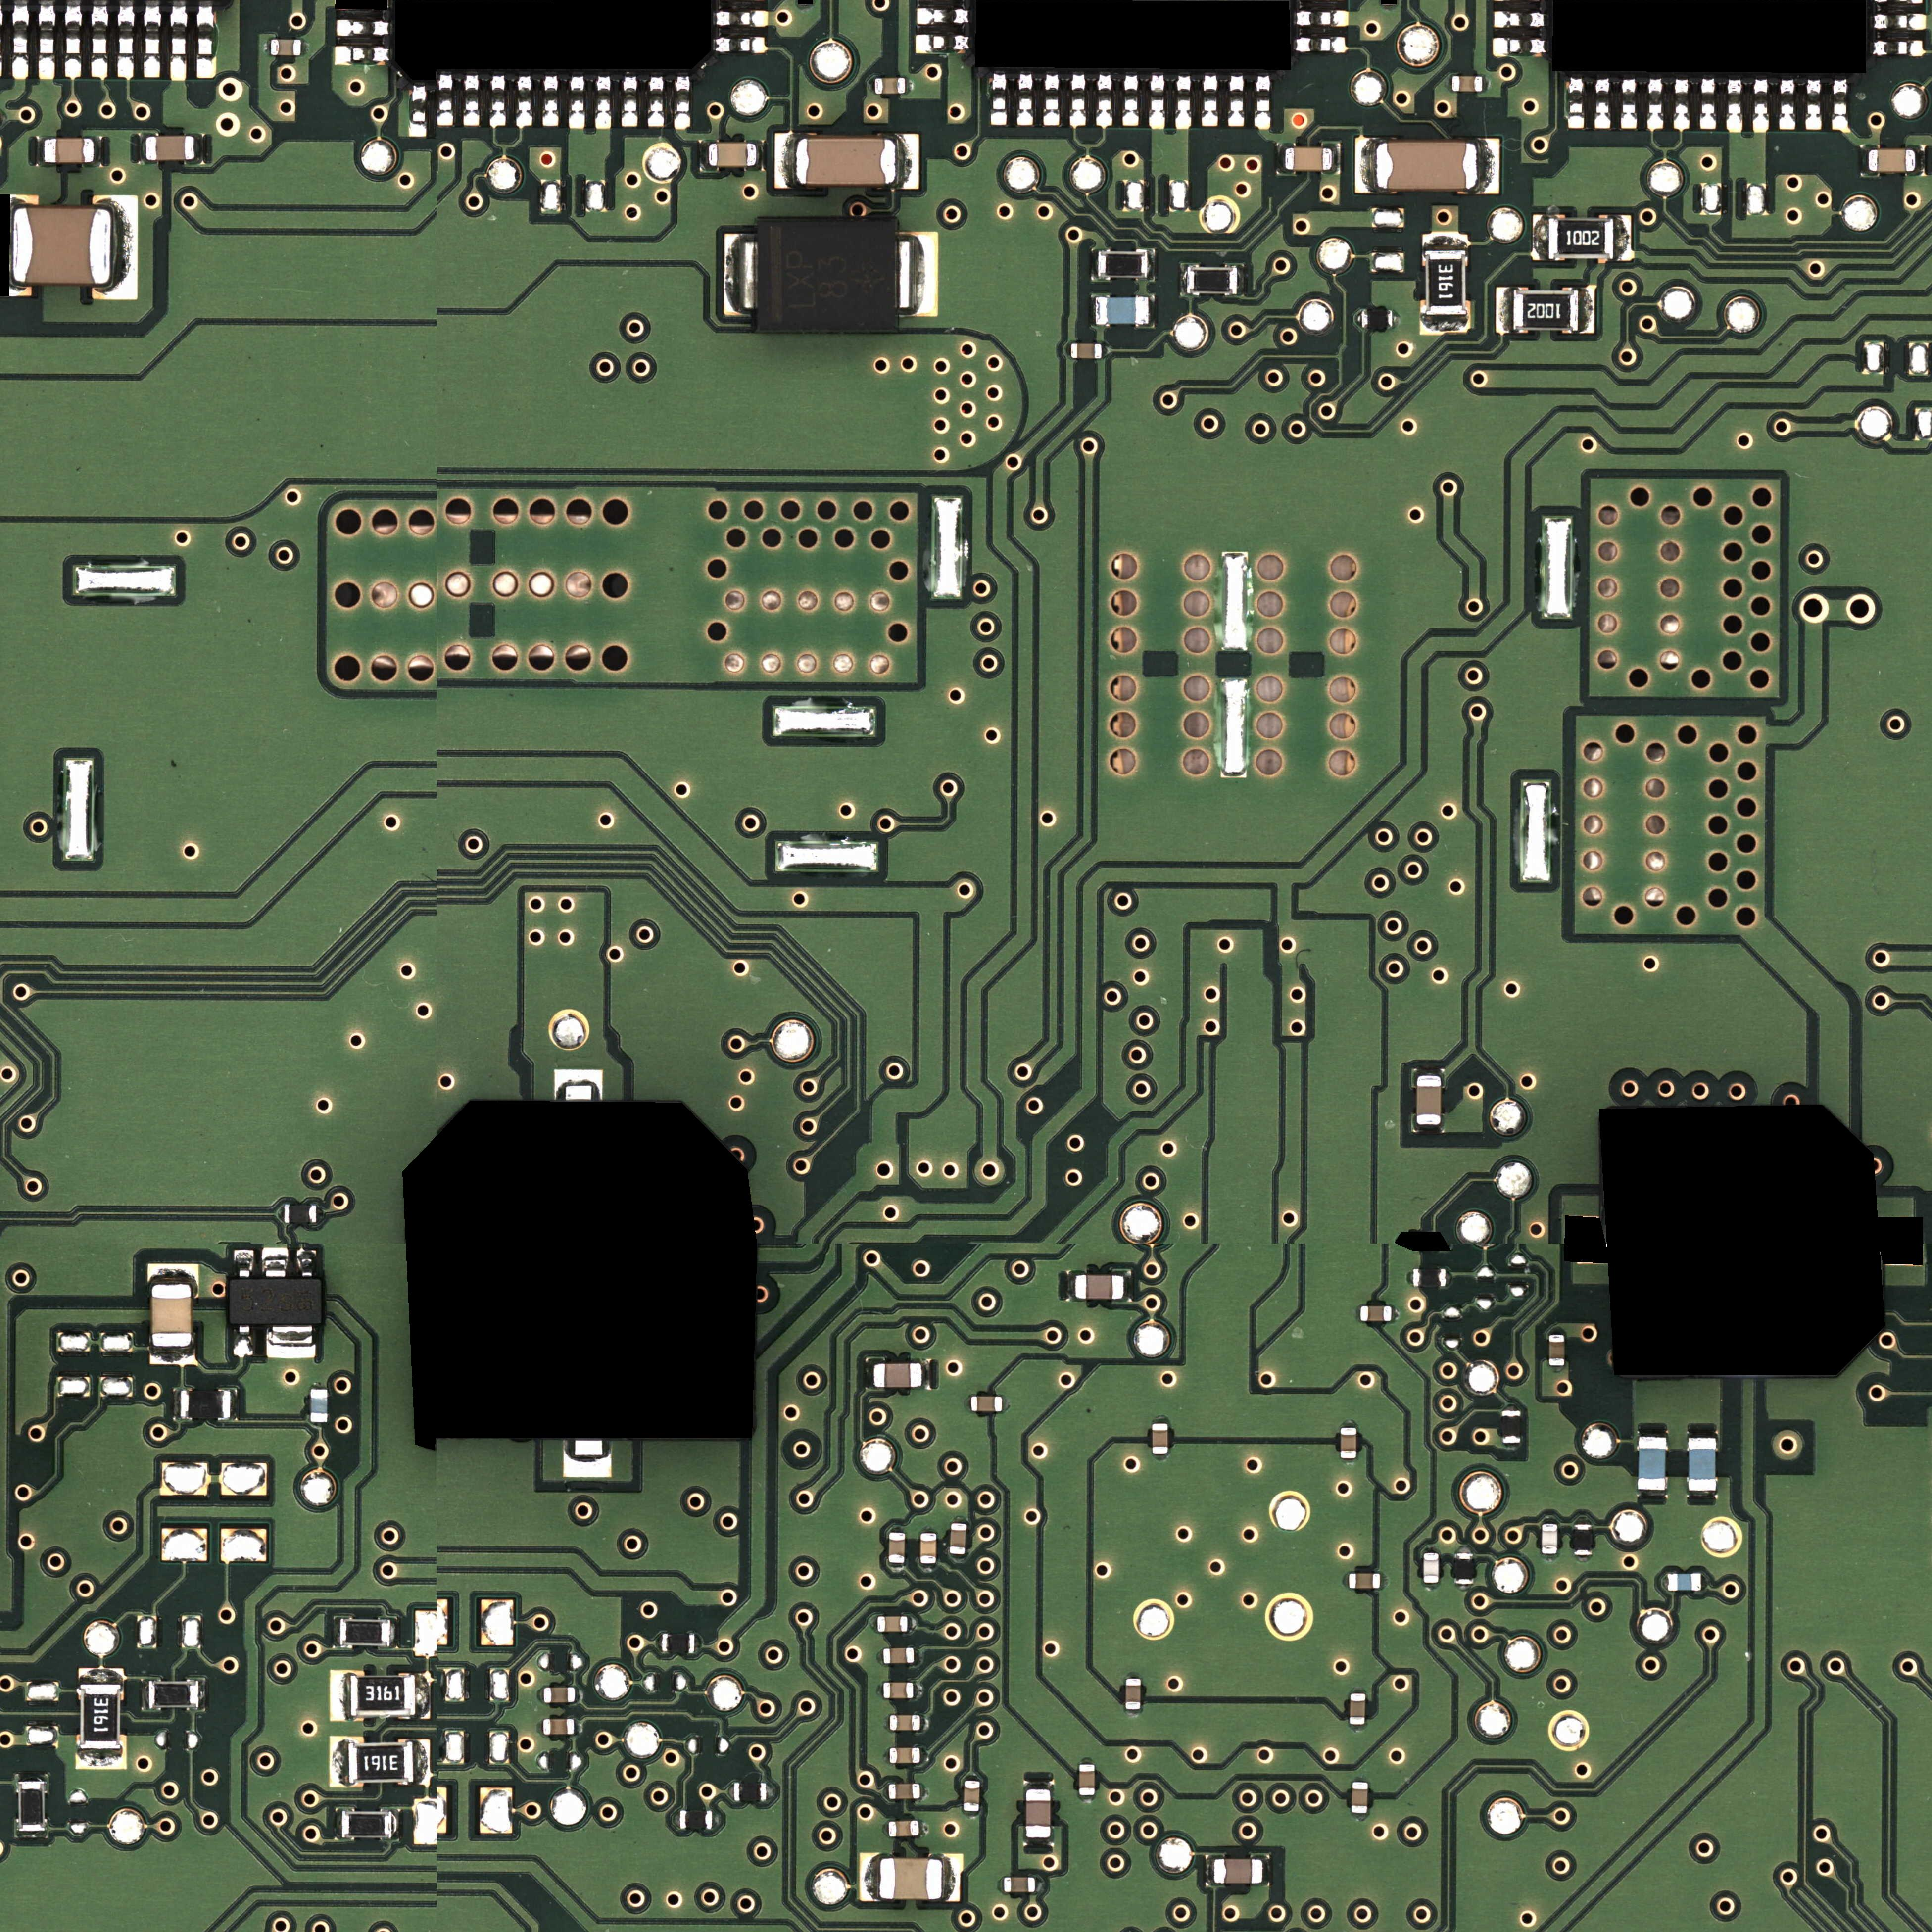Package: (757, 219, 897, 331), (12, 207, 111, 283), (1375, 142, 1477, 189), (228, 1277, 324, 1325), (796, 138, 895, 184), (1424, 251, 1467, 315), (1513, 290, 1578, 331), (350, 1675, 416, 1716), (349, 1743, 414, 1783), (1548, 218, 1614, 258), (879, 1858, 943, 1898), (80, 1684, 120, 1748), (152, 1284, 191, 1346), (1688, 1438, 1716, 1490), (1638, 1437, 1665, 1490), (1095, 297, 1148, 324), (180, 1391, 230, 1419), (1097, 297, 1148, 324), (340, 1619, 389, 1645), (1187, 267, 1237, 294), (1099, 251, 1146, 278), (19, 1782, 44, 1831), (44, 138, 94, 163), (1417, 1076, 1442, 1125), (149, 1683, 198, 1707), (1214, 1859, 1263, 1884), (1026, 1789, 1051, 1838), (145, 136, 195, 161), (341, 1812, 391, 1836), (874, 1362, 922, 1387), (1284, 147, 1332, 170), (1076, 1276, 1123, 1299), (709, 143, 755, 166), (1868, 149, 1914, 172), (662, 1633, 695, 1654), (679, 1810, 713, 1829), (310, 1389, 327, 1422), (1502, 1410, 1520, 1444), (1668, 1573, 1700, 1591), (1414, 1269, 1445, 1286), (285, 1205, 317, 1223), (734, 1783, 766, 1801), (1575, 1525, 1592, 1555), (888, 1532, 906, 1562), (1454, 1553, 1472, 1583), (888, 1783, 920, 1799), (1348, 1573, 1380, 1589), (964, 1780, 980, 1812), (883, 1647, 915, 1663), (1548, 1334, 1564, 1366), (1079, 1764, 1095, 1796), (1352, 1782, 1368, 1813), (1350, 1693, 1366, 1725), (888, 1821, 918, 1836), (890, 1748, 920, 1764), (876, 78, 906, 94), (1541, 1523, 1557, 1553), (890, 1714, 920, 1730), (1005, 1877, 1035, 1893), (878, 1615, 908, 1631), (950, 1523, 966, 1553), (1362, 311, 1392, 327), (883, 1683, 913, 1698), (1453, 76, 1483, 92), (271, 39, 301, 55), (1341, 1428, 1357, 1458), (1125, 1679, 1141, 1709), (1152, 1424, 1168, 1454), (1361, 1306, 1391, 1322), (920, 1534, 936, 1564), (971, 1396, 1001, 1412), (1070, 343, 1102, 357), (543, 1720, 575, 1734), (545, 1688, 575, 1702), (1424, 1553, 1438, 1583)
Solder: (899, 232, 938, 317), (724, 234, 755, 315), (113, 195, 138, 299), (563, 1438, 612, 1477), (267, 1325, 315, 1359), (196, 2, 216, 78), (554, 1069, 602, 1099), (170, 2, 188, 80), (117, 2, 134, 80), (11, 2, 28, 80), (37, 2, 55, 80), (143, 2, 161, 78), (92, 2, 110, 78), (65, 2, 81, 80), (897, 134, 918, 189), (775, 133, 794, 189), (1479, 138, 1499, 195), (329, 1670, 350, 1721), (1355, 138, 1375, 193), (149, 1263, 198, 1284), (76, 1748, 126, 1769), (1493, 37, 1546, 57), (329, 1736, 349, 1787), (621, 74, 639, 129), (464, 73, 481, 127), (515, 73, 533, 127), (409, 83, 426, 138), (336, 46, 391, 64), (860, 1852, 879, 1902), (1645, 76, 1663, 129), (916, 35, 970, 53), (648, 74, 665, 127), (568, 76, 586, 129), (541, 74, 559, 127), (437, 73, 455, 126), (490, 73, 508, 126), (1421, 315, 1468, 334), (943, 1854, 962, 1902), (1495, 11, 1546, 28), (918, 7, 970, 25), (1017, 71, 1033, 127), (991, 71, 1007, 127), (150, 1346, 196, 1366), (1614, 214, 1633, 260), (1297, 35, 1346, 53), (1254, 73, 1270, 127), (1228, 73, 1244, 127), (1097, 73, 1113, 127), (1070, 73, 1086, 127), (1044, 73, 1060, 127), (674, 74, 690, 129), (1578, 287, 1596, 334), (1874, 14, 1927, 30), (1833, 78, 1849, 131), (1780, 78, 1796, 131), (1727, 78, 1743, 131), (1621, 76, 1637, 129), (1594, 76, 1610, 129), (1568, 76, 1583, 129), (596, 74, 612, 127), (338, 19, 391, 35), (1874, 41, 1925, 57), (1806, 78, 1822, 129), (1672, 78, 1688, 129), (1297, 11, 1348, 27), (717, 11, 768, 27), (715, 37, 766, 53), (1495, 287, 1513, 333), (1150, 73, 1164, 129), (1177, 74, 1191, 129), (1203, 73, 1217, 127), (1123, 73, 1138, 127), (1753, 78, 1767, 131), (1700, 76, 1714, 129), (264, 1247, 288, 1277), (414, 1739, 430, 1785), (1422, 234, 1468, 249), (1532, 214, 1548, 260), (78, 1668, 124, 1684), (416, 1674, 430, 1718), (234, 1325, 253, 1357), (234, 1249, 253, 1277), (297, 1249, 317, 1277), (699, 142, 709, 170), (1023, 1838, 1054, 1847), (1205, 1854, 1214, 1886), (1023, 1780, 1054, 1789), (1237, 264, 1246, 295), (1123, 1270, 1132, 1302), (195, 133, 203, 165), (1686, 1490, 1718, 1499), (1146, 249, 1155, 280), (1332, 143, 1341, 173), (389, 1617, 398, 1647), (1067, 1270, 1076, 1300), (16, 1773, 46, 1782), (391, 1810, 400, 1840), (35, 136, 44, 166), (230, 1389, 239, 1419), (1916, 145, 1925, 175), (1414, 1067, 1444, 1076), (16, 1831, 48, 1838), (1263, 1854, 1270, 1886), (1180, 264, 1187, 295), (1638, 1430, 1668, 1437), (142, 1679, 149, 1709), (1688, 1430, 1718, 1437), (198, 1679, 205, 1709), (1414, 1125, 1444, 1132), (757, 140, 764, 170), (1637, 1490, 1667, 1497), (333, 1617, 340, 1647), (1148, 295, 1155, 326), (173, 1389, 180, 1419), (1277, 143, 1284, 173), (334, 1808, 341, 1838), (867, 1359, 874, 1389), (1092, 249, 1099, 280), (94, 136, 101, 166), (1861, 147, 1868, 175), (922, 1361, 929, 1389), (140, 133, 145, 163), (1090, 295, 1095, 326), (301, 39, 310, 57), (1001, 1396, 1010, 1414), (1405, 1269, 1414, 1286), (766, 1783, 775, 1801), (1352, 1813, 1368, 1822), (913, 1683, 922, 1698), (1380, 1573, 1389, 1589), (1541, 1553, 1557, 1562), (918, 1821, 927, 1836), (920, 1525, 936, 1534), (1125, 1670, 1141, 1679), (1502, 1444, 1522, 1451), (1548, 1366, 1566, 1373), (962, 1812, 980, 1819), (1339, 1421, 1357, 1428), (1548, 1327, 1566, 1334), (1422, 1583, 1440, 1591), (950, 1516, 968, 1523), (1502, 1403, 1520, 1410), (1152, 1454, 1169, 1461), (1575, 1516, 1592, 1523), (317, 1205, 324, 1223), (888, 1562, 906, 1569), (1422, 1546, 1440, 1553), (713, 1812, 720, 1829), (1541, 1516, 1559, 1523), (278, 1205, 285, 1223), (1454, 1583, 1472, 1591), (1348, 1725, 1366, 1732), (881, 1821, 888, 1836), (1341, 1573, 1348, 1589), (920, 1714, 927, 1730), (920, 1748, 927, 1764), (1575, 1555, 1591, 1562), (920, 1783, 927, 1799), (1035, 1877, 1042, 1893), (883, 1714, 890, 1730), (906, 78, 913, 94), (908, 1615, 915, 1631), (536, 1720, 543, 1736), (869, 78, 876, 94), (998, 1877, 1005, 1893), (876, 1683, 883, 1698), (264, 39, 271, 55), (883, 1748, 890, 1764), (1352, 1775, 1368, 1782), (915, 1647, 922, 1663), (1392, 1306, 1399, 1322), (1079, 1796, 1095, 1803), (964, 1396, 971, 1412), (1483, 76, 1490, 92), (1079, 1757, 1095, 1764), (1392, 311, 1399, 327), (1456, 1546, 1472, 1553), (1152, 1415, 1168, 1422), (870, 1615, 878, 1631), (727, 1783, 734, 1799), (1125, 1711, 1141, 1718), (1353, 1306, 1361, 1322), (1350, 1686, 1366, 1693), (1353, 311, 1361, 327), (1444, 74, 1451, 90), (695, 1635, 701, 1654), (674, 1810, 679, 1829), (575, 1688, 582, 1702), (575, 1720, 582, 1734), (536, 1688, 543, 1702), (310, 1384, 327, 1389), (888, 1527, 906, 1532), (656, 1633, 662, 1651), (1661, 1573, 1667, 1591), (1702, 1573, 1707, 1591), (1341, 1460, 1357, 1465), (964, 1775, 980, 1780), (950, 1555, 966, 1560), (1102, 343, 1108, 359), (920, 1564, 936, 1569), (311, 1422, 327, 1428), (883, 1785, 888, 1799), (1065, 343, 1070, 357), (878, 1649, 883, 1663)
